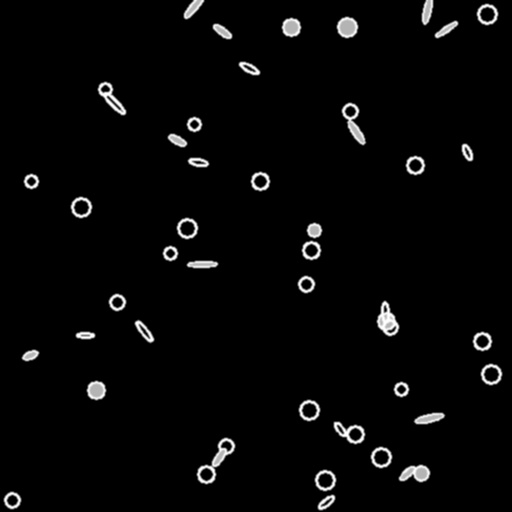pseudomonas: (102, 91, 126, 115), (346, 119, 366, 145), (134, 319, 154, 343), (182, 0, 206, 19), (414, 411, 444, 425), (435, 20, 457, 38), (212, 22, 232, 40), (211, 447, 227, 467), (317, 494, 335, 510), (398, 465, 416, 481), (167, 133, 187, 147), (239, 61, 259, 75), (421, 0, 433, 23), (333, 421, 347, 437), (461, 143, 473, 161), (189, 157, 207, 167), (188, 261, 216, 267), (22, 350, 38, 360), (381, 302, 389, 322), (77, 332, 93, 338)
synechocystis: (316, 471, 334, 489), (372, 448, 390, 466), (178, 219, 196, 237), (478, 5, 496, 23), (482, 365, 500, 383), (72, 198, 90, 216), (300, 401, 318, 419), (338, 18, 356, 36), (474, 333, 490, 349), (347, 426, 363, 442), (303, 242, 319, 258), (252, 173, 268, 189), (378, 313, 394, 329), (407, 157, 423, 173), (283, 19, 299, 35), (88, 382, 104, 398), (198, 466, 214, 482), (299, 277, 313, 291), (5, 493, 19, 507), (110, 295, 124, 309), (414, 466, 428, 480), (383, 320, 397, 334), (343, 104, 357, 118), (219, 439, 233, 453), (164, 247, 176, 259), (99, 83, 111, 95), (25, 175, 37, 187), (395, 383, 407, 395), (188, 118, 200, 130), (308, 224, 320, 236)
